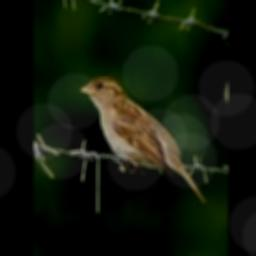Sparrow: (79, 76, 207, 203)
